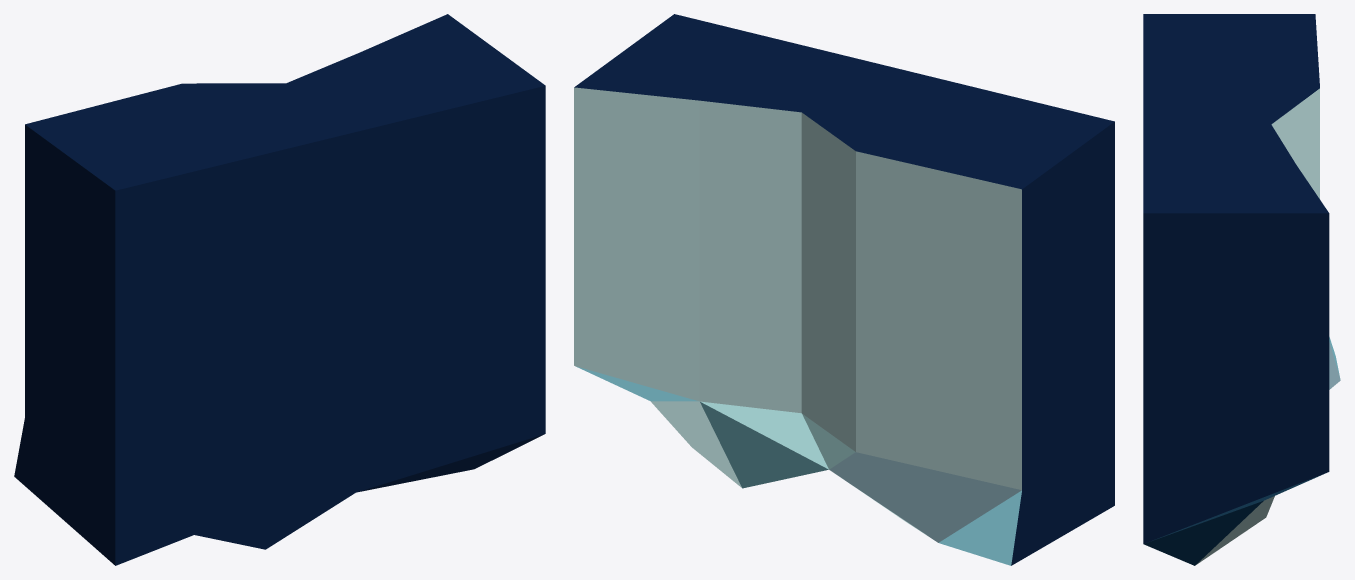
Rendered from guard_middle_wn_1.fbx.
3 renders of one model, left to right at view 1: azimuth 30°, elevation 25°; view 2: azimuth 150°, elevation 25°; view 3: azimuth 270°, elevation 25°, orthographic. The views are drawn at different scales.
Parts seen in each view (by area): view 1: Cube.006; view 2: Cube.006; view 3: Cube.006.
Part boxes in pixels (box(x1,y1,x2,y2)): Cube.006: box(14, 14, 545, 565); Cube.006: box(574, 14, 1114, 565); Cube.006: box(1143, 14, 1340, 565).
Size of the model in its own units: 1019 by 895 by 426.
